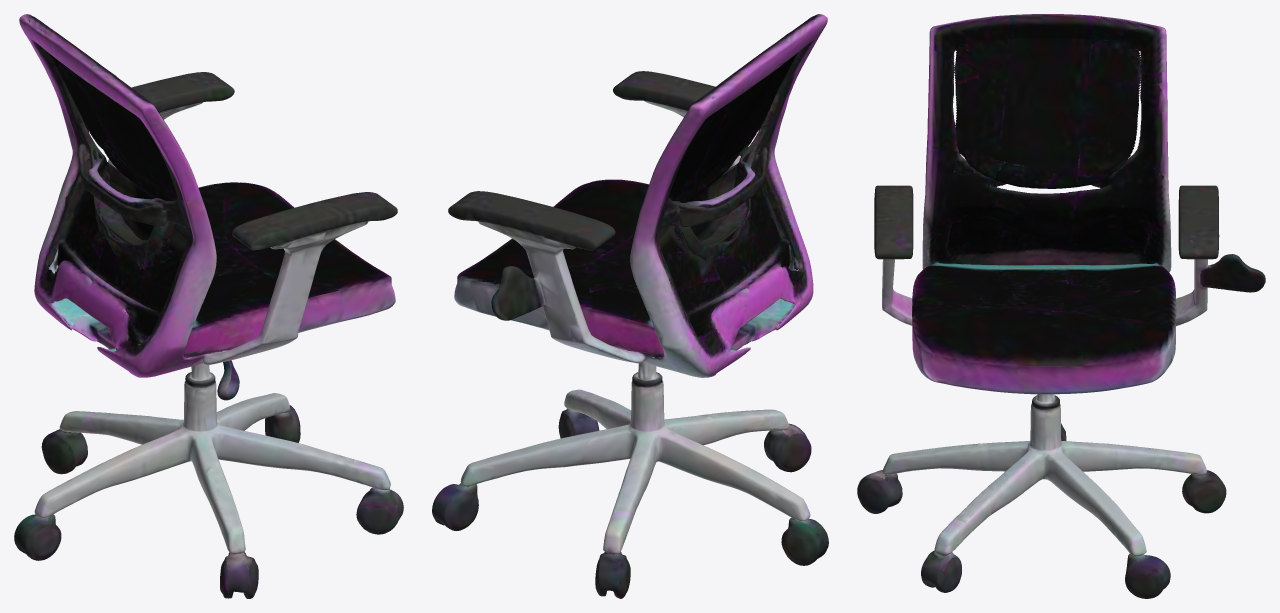
File: office_chair.glb
3 views of the same model, side by side, from view 1: azimuth 30°, elevation 25°; view 2: azimuth 150°, elevation 25°; view 3: azimuth 270°, elevation 25° (orthographic). The views are drawn at different scales.
Visible parts, largest first — view 1: tripo_node_ea6258aa-6ef7-4bcd-b7d3-aebe6c58b56b; view 2: tripo_node_ea6258aa-6ef7-4bcd-b7d3-aebe6c58b56b; view 3: tripo_node_ea6258aa-6ef7-4bcd-b7d3-aebe6c58b56b.
Boxes of the visible parts, x1=… form: tripo_node_ea6258aa-6ef7-4bcd-b7d3-aebe6c58b56b: x1=14, y1=14, x2=403, y2=598; tripo_node_ea6258aa-6ef7-4bcd-b7d3-aebe6c58b56b: x1=432, y1=14, x2=828, y2=598; tripo_node_ea6258aa-6ef7-4bcd-b7d3-aebe6c58b56b: x1=857, y1=14, x2=1265, y2=598.
Bounding box in the file's own units: 0.6944 × 0.9999 × 0.7976.
Materials: 1 (1 with a texture image).
